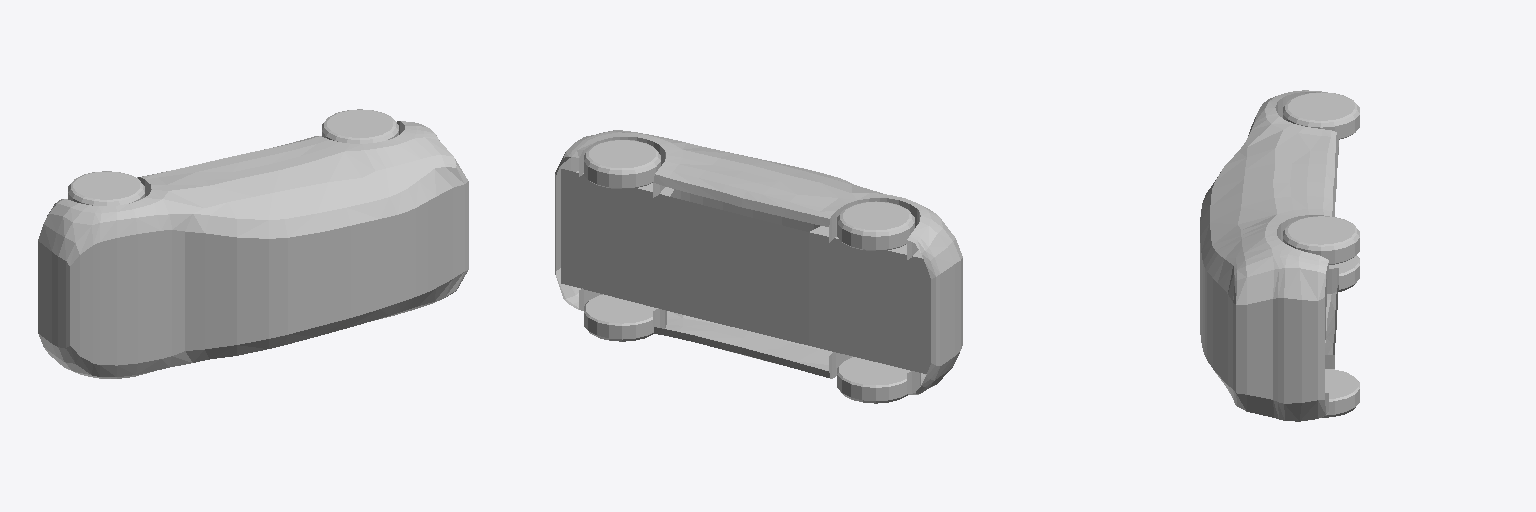
The model's file is car.obj.
3 renders of one model, left to right at view 1: azimuth 30°, elevation 25°; view 2: azimuth 150°, elevation 25°; view 3: azimuth 270°, elevation 25°, orthographic.
Parts seen in each view (by area): view 1: car; view 2: car; view 3: car.
Part boxes in pixels (left/top/right/bottom): car: left=38, top=109, right=468, bottom=378; car: left=555, top=130, right=962, bottom=403; car: left=1200, top=90, right=1359, bottom=421.
Size of the model in its own units: 452 by 191 by 160.